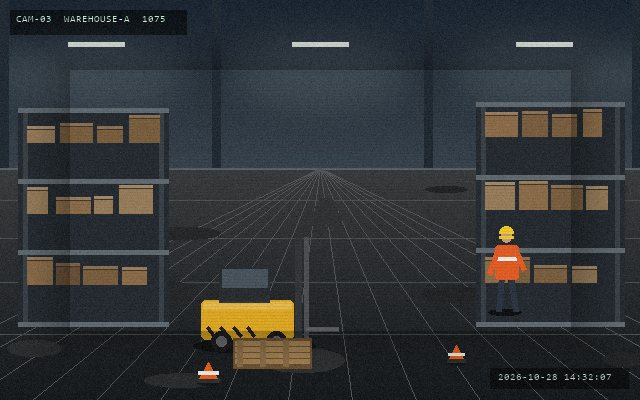cone: (196, 360, 220, 385), (446, 343, 466, 365)
forklift: (197, 234, 340, 353)
pallet: (231, 336, 313, 370)
person: (487, 225, 526, 314)
shelf: (476, 102, 624, 322), (18, 108, 168, 322)
